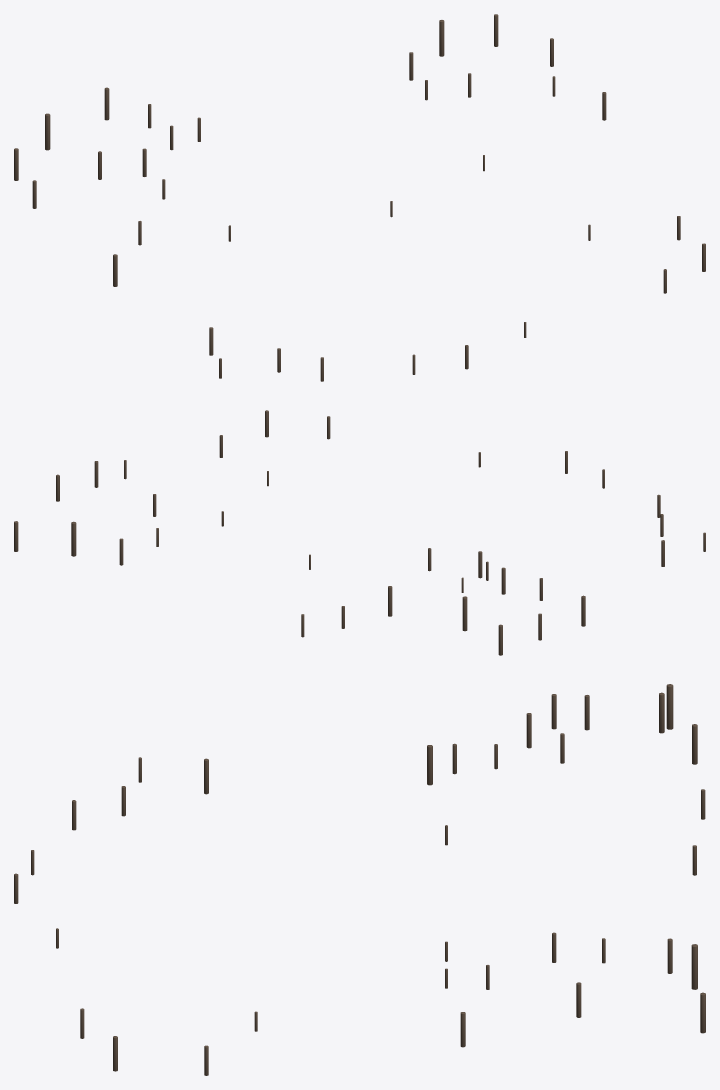
File: SM_Trunks.fbx
3 views of the same model, one above another, from view 1: azimuth 30°, elevation 25°; view 2: azimuth 150°, elevation 25°; view 3: azimuth 270°, elevation 25° (orthographic). The views are drawn at different scales.
Visible parts, largest first — view 1: SM_Trunks; view 2: SM_Trunks; view 3: SM_Trunks.
Part boxes in pixels (x1,y1,x2,y2): SM_Trunks: (14,14,705,381); SM_Trunks: (14,410,705,655); SM_Trunks: (14,684,705,1075).
Bounding box in the file's own units: 9061 × 8361 × 1675.
